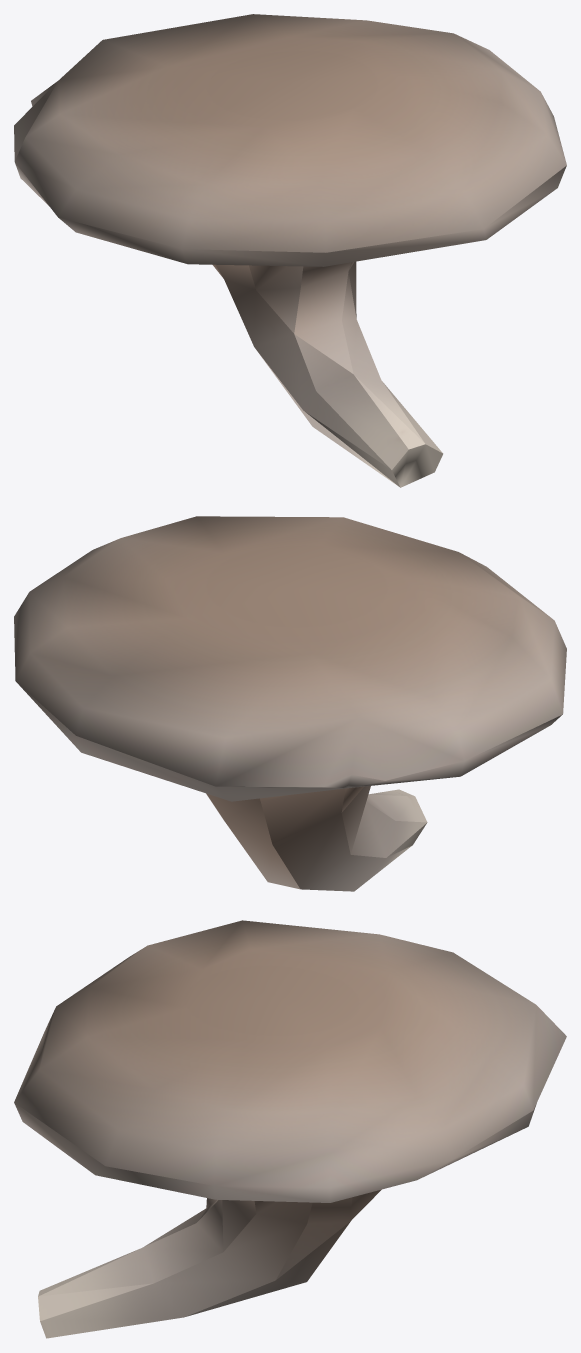
Rendered from OysterMushroom03.fbx.
The picture shows the model from 3 angles, top to bottom: view 1: azimuth 30°, elevation 25°; view 2: azimuth 150°, elevation 25°; view 3: azimuth 270°, elevation 25°; orthographic projection. The views are drawn at different scales.
Parts seen in each view (by area): view 1: OysterMushroom3; view 2: OysterMushroom3; view 3: OysterMushroom3.
Boxes of the visible parts, x1,y1,x2,y2 form: OysterMushroom3: (14,14,566,487); OysterMushroom3: (14,516,566,891); OysterMushroom3: (14,920,566,1338).
Bounding box in the file's own units: 6.48 × 4.2 × 6.3.
